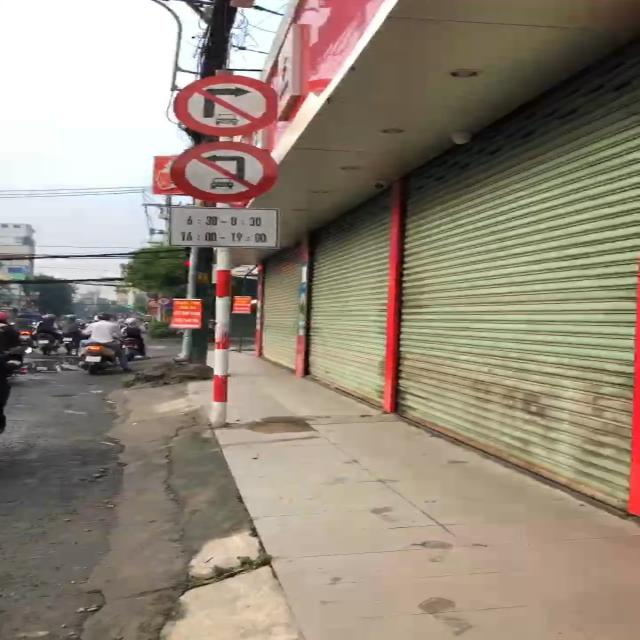Bien bao cam xe o to re phai: (168, 72, 286, 134)
Bien bao cam xe o to re trai: (163, 137, 281, 200)
